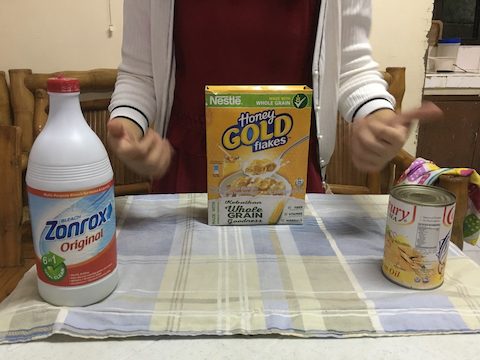bottle: (24, 69, 130, 311)
box: (199, 82, 318, 230)
can: (380, 182, 461, 293)
